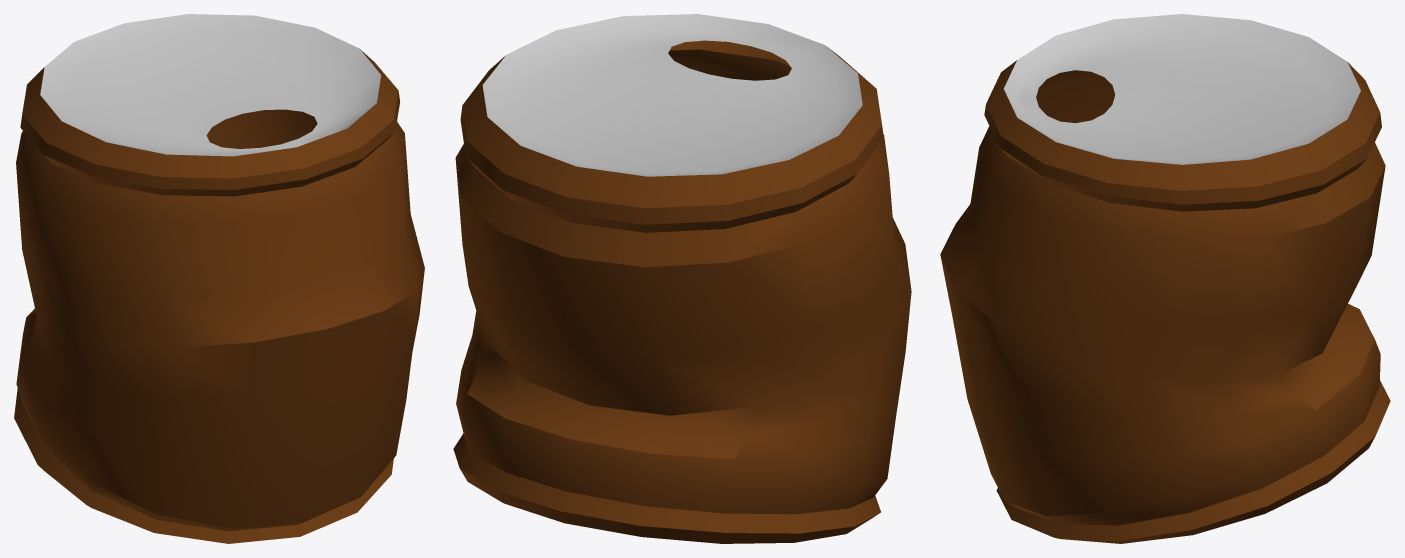
The model's file is LataBebida_05.fbx.
The picture shows the model from 3 angles, left to right: view 1: azimuth 30°, elevation 25°; view 2: azimuth 150°, elevation 25°; view 3: azimuth 270°, elevation 25°; orthographic projection. The views are drawn at different scales.
Visible parts, largest first — view 1: LataBebida_05; view 2: LataBebida_05; view 3: LataBebida_05.
Part boxes in pixels (bbox=[...]): LataBebida_05: bbox=[14, 14, 424, 543]; LataBebida_05: bbox=[453, 14, 911, 543]; LataBebida_05: bbox=[940, 14, 1390, 543].
Bounding box in the file's own units: 26.06 × 28.48 × 28.78.
